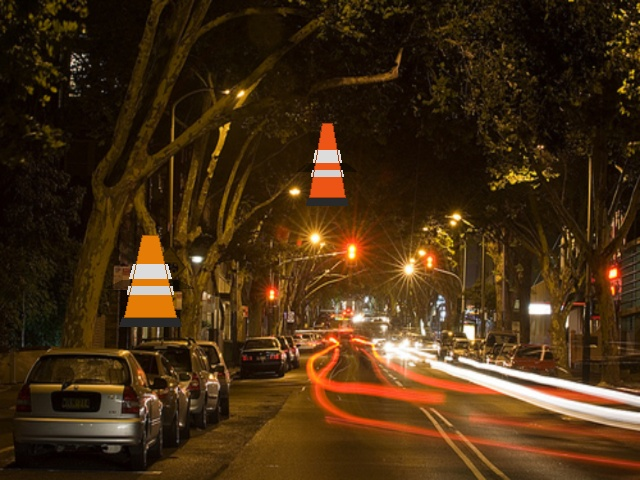traffic-cone: (119, 235, 181, 326), (306, 123, 348, 205)
